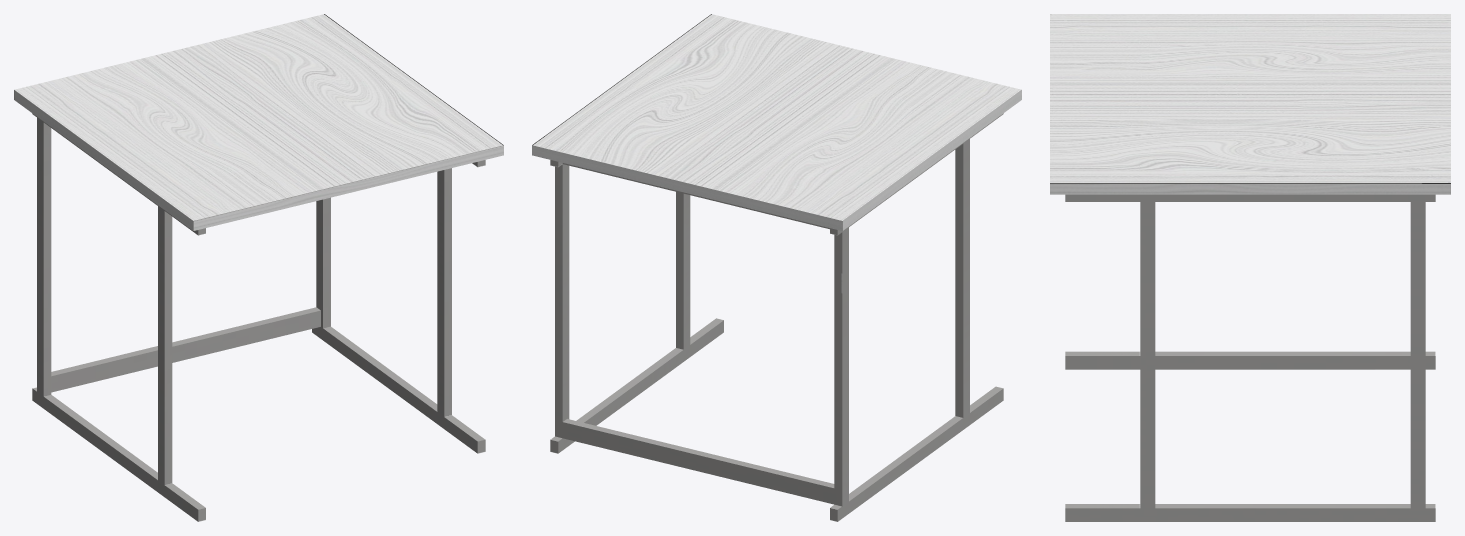
File: table_80.dae
3 views of the same model, side by side, from view 1: azimuth 30°, elevation 25°; view 2: azimuth 150°, elevation 25°; view 3: azimuth 270°, elevation 25° (orthographic). The views are drawn at different scales.
Visible parts, largest first — view 1: Stul_80 v3; view 2: Stul_80 v3; view 3: Stul_80 v3.
Part boxes in pixels (left/top/right/bottom): Stul_80 v3: left=14, top=14, right=503, bottom=521; Stul_80 v3: left=532, top=14, right=1021, bottom=521; Stul_80 v3: left=1050, top=14, right=1450, bottom=521.
Bounding box in the file's own units: 0.8 × 0.8 × 0.76.
Materials: 1 (1 with a texture image).
